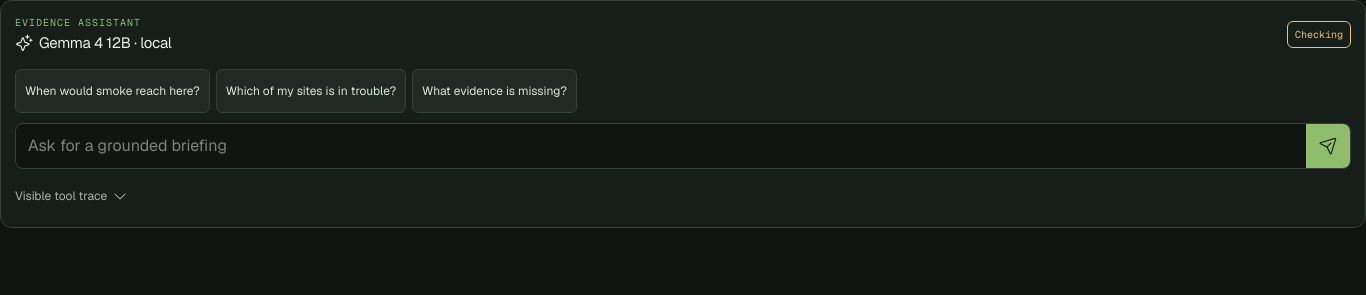
Test: EmberField console › treats a successful agent response with null JSON as unavailable
Click the button "When would smoke reach here?".
click(112, 90)  # box 15,68 -> 210,112
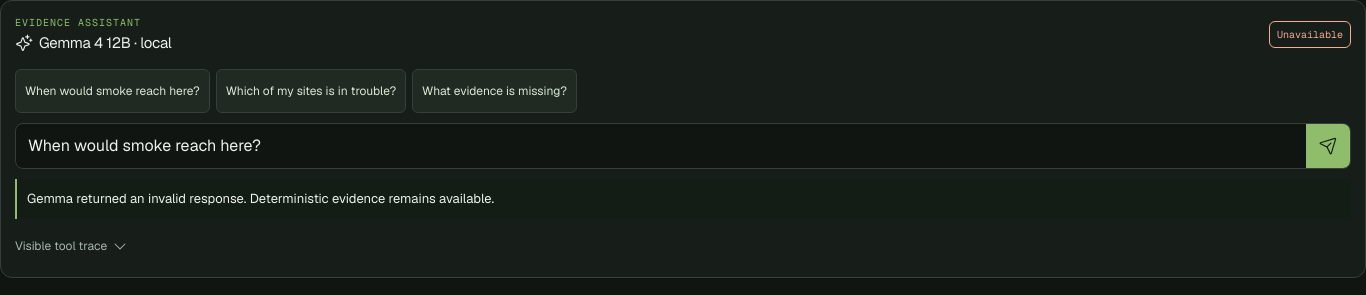
expect the text "returned an invalid response" is shown: met, box 27,190 -> 494,206
expect the text "Unavailable" is shown: met, box 1269,21 -> 1351,48
